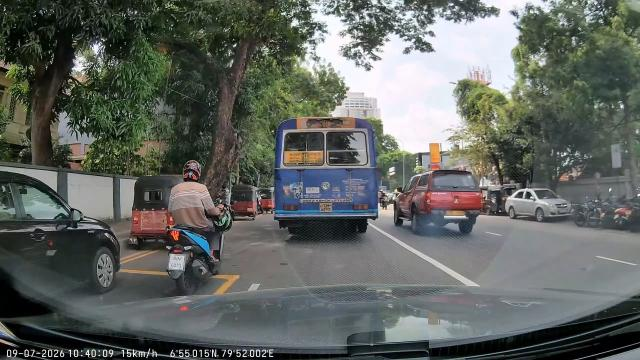illegal overtaking: (391, 164, 489, 242)
